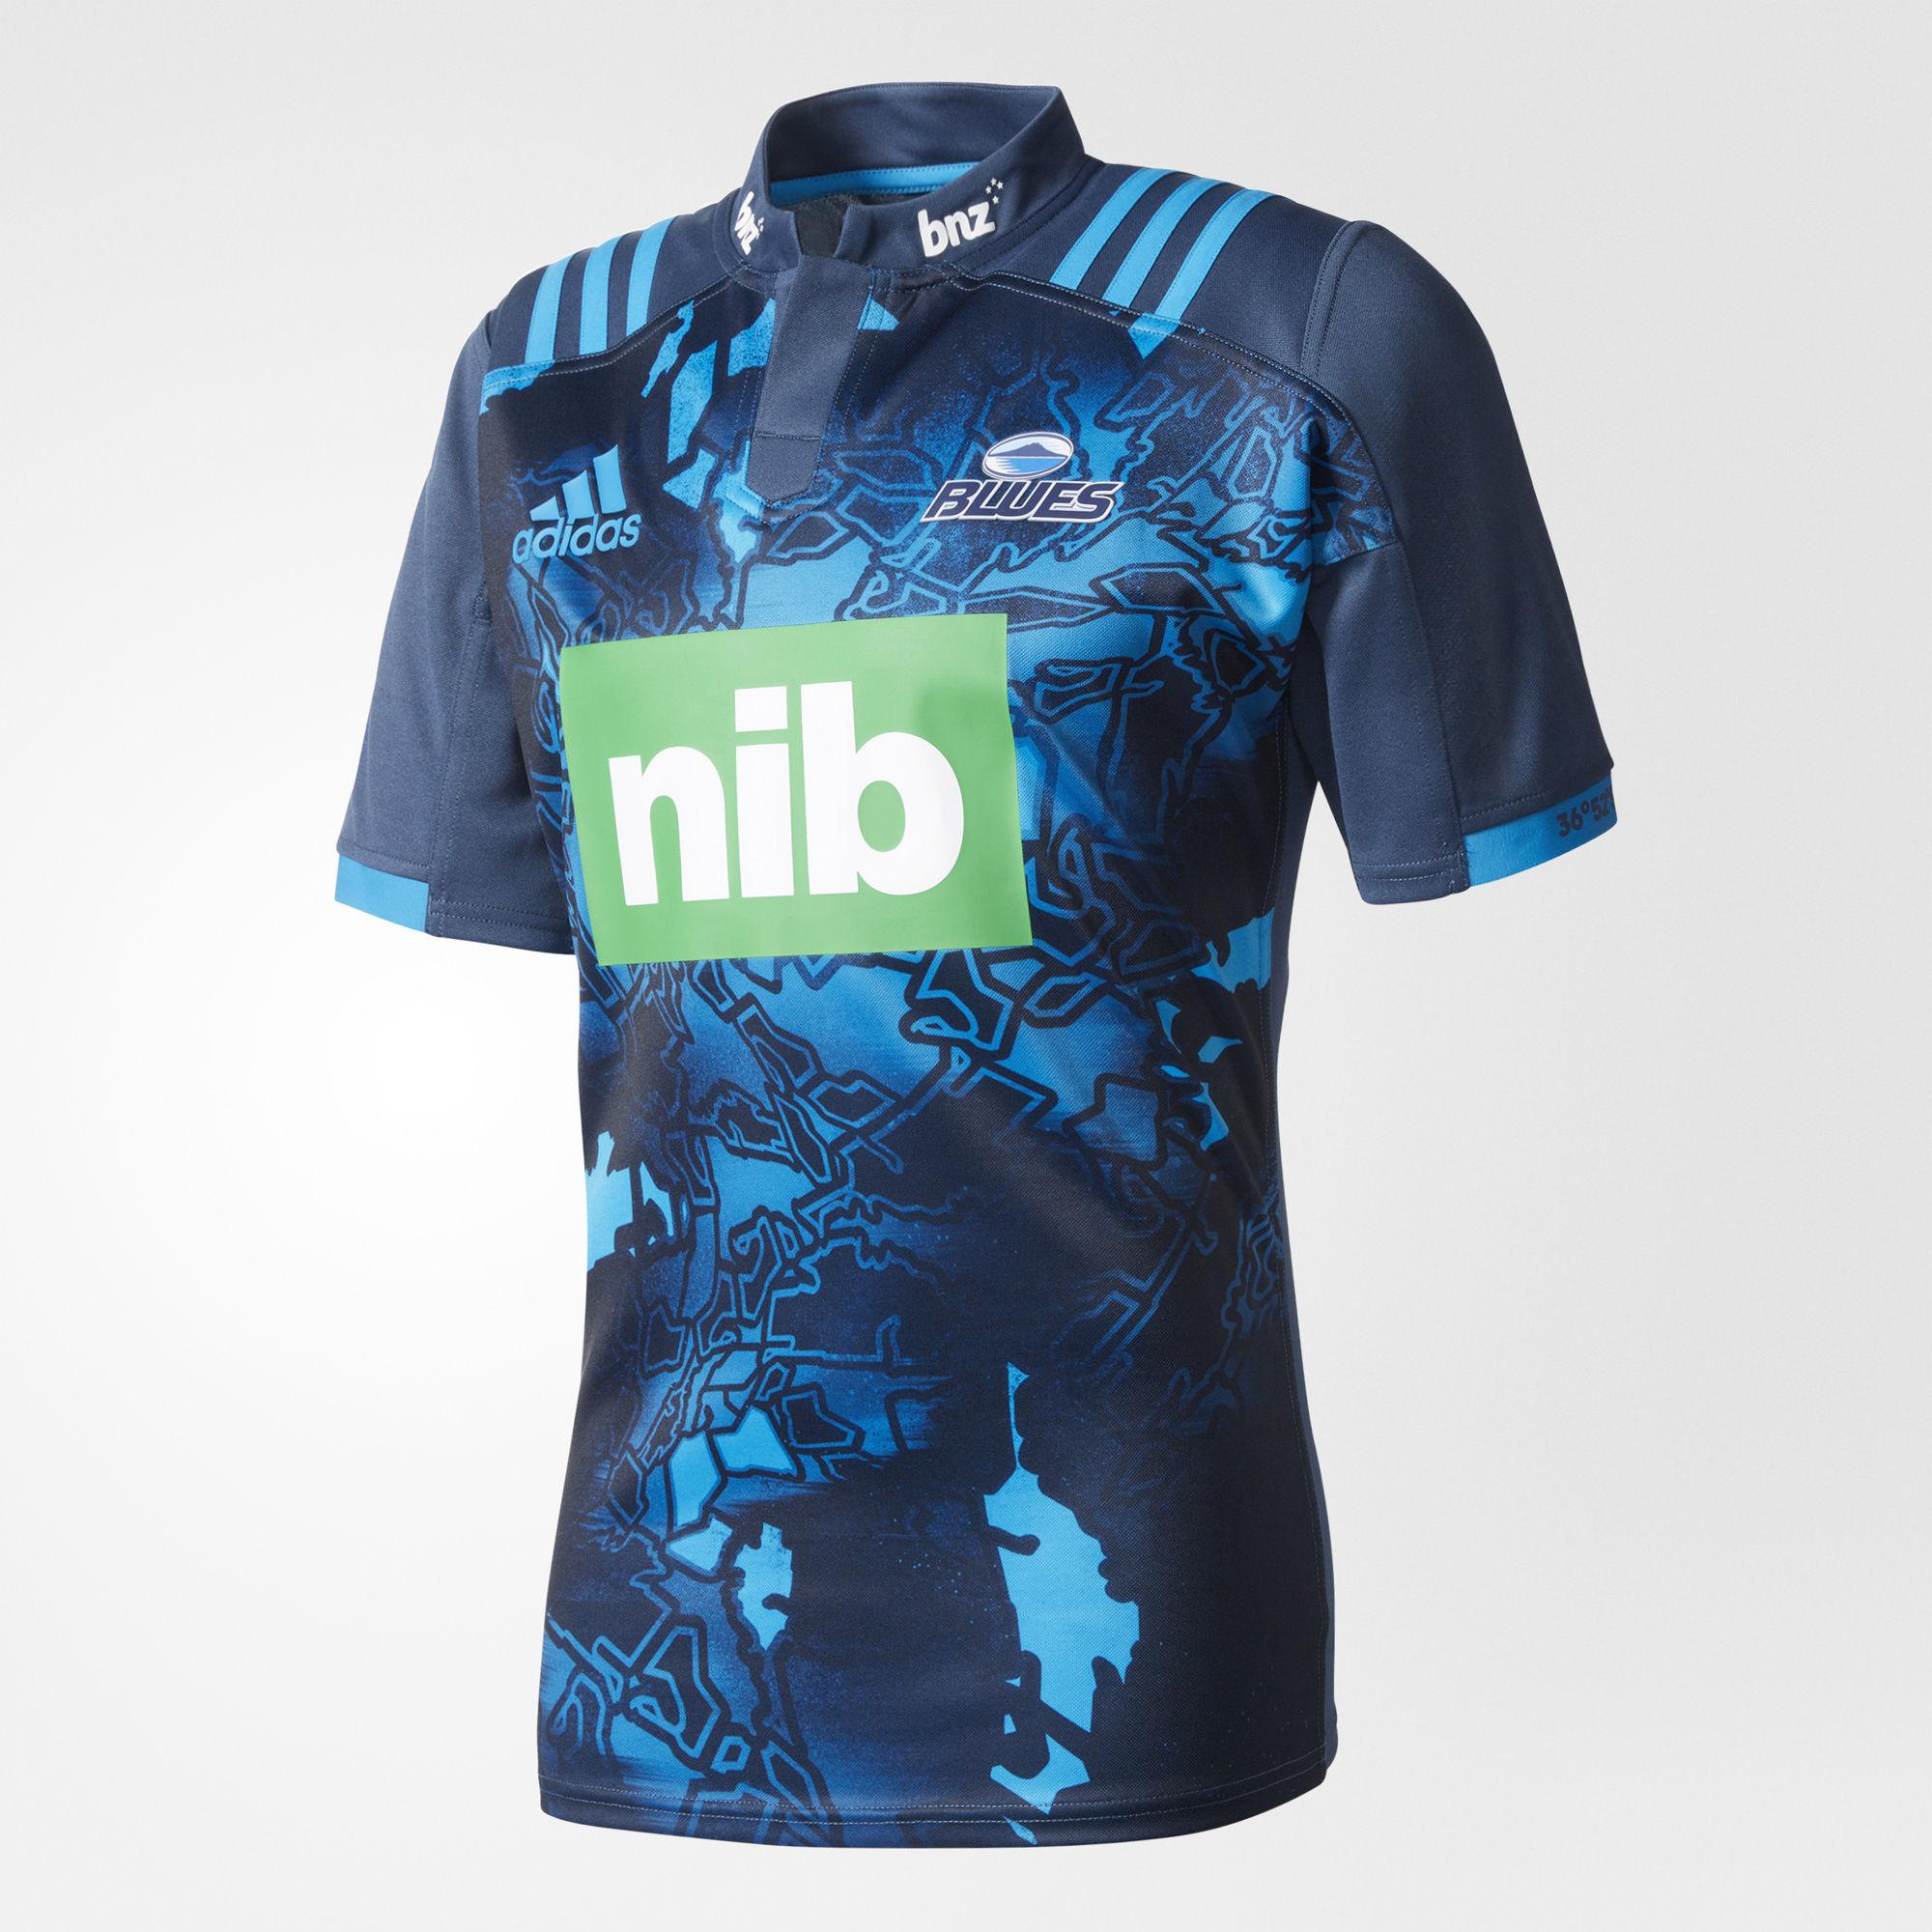teeshirt: (303, 51, 1661, 1821)
